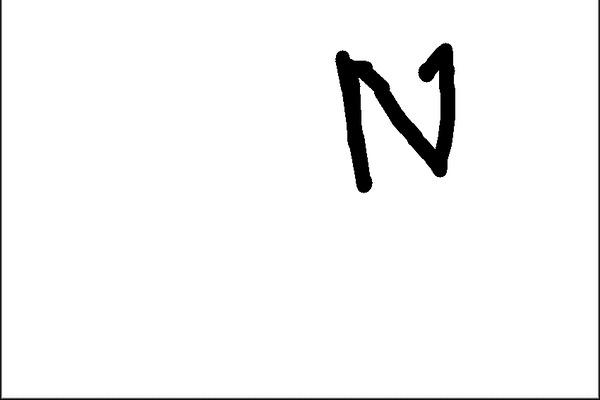N: (327, 38, 464, 197)
